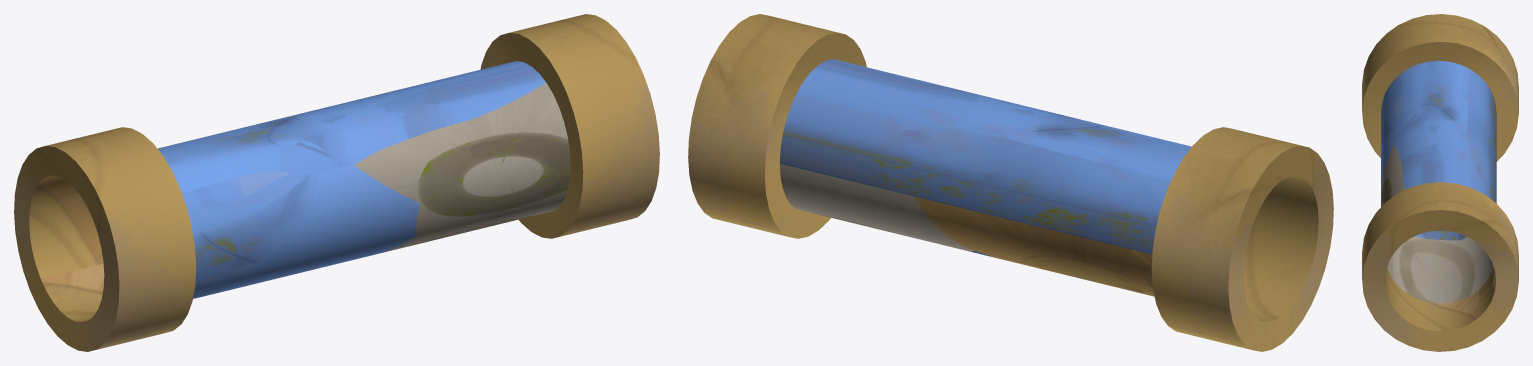
Rendered from Pipe_Straight.fbx.
3 views of the same model, side by side, from view 1: azimuth 30°, elevation 25°; view 2: azimuth 150°, elevation 25°; view 3: azimuth 270°, elevation 25° (orthographic). The views are drawn at different scales.
Visible parts, largest first — view 1: Cylinder.001; view 2: Cylinder.001; view 3: Cylinder.001.
Part boxes in pixels (x1,y1,x2,y2): Cylinder.001: (14,14,659,351); Cylinder.001: (688,14,1333,351); Cylinder.001: (1362,14,1518,351).
Size of the model in its own units: 100 by 33.8 by 33.8.
